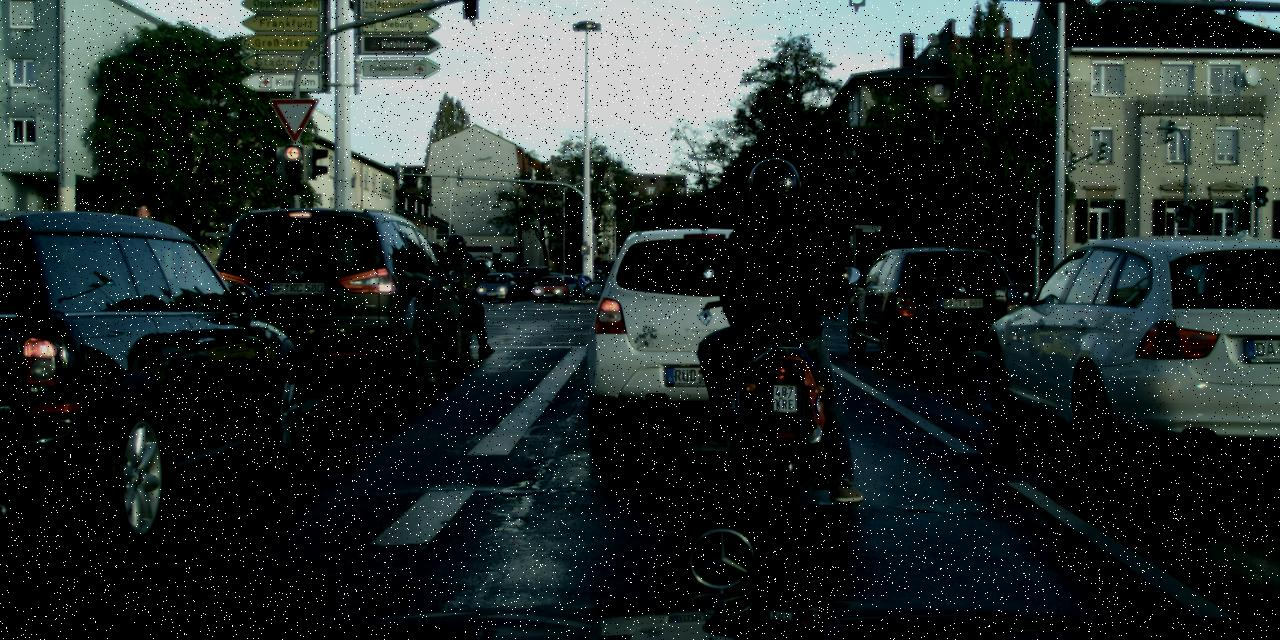ped: (714, 157, 844, 475), (438, 235, 483, 344)
